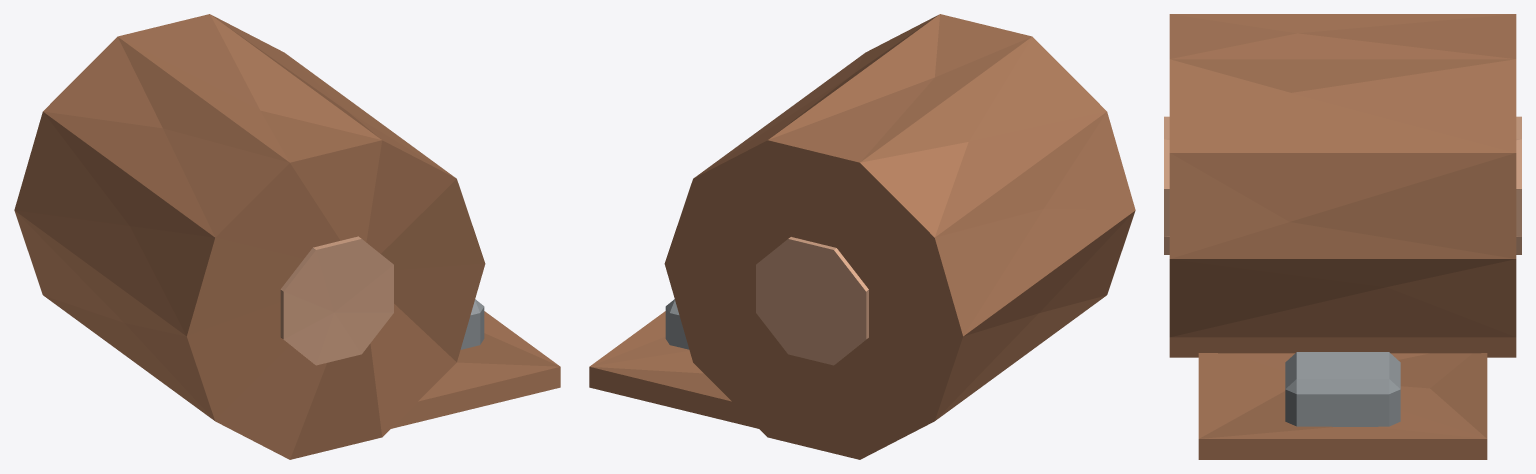
File: bandage_elastichnyy_idle.glb
3 renders of one model, left to right at view 1: azimuth 30°, elevation 25°; view 2: azimuth 150°, elevation 25°; view 3: azimuth 270°, elevation 25°, orthographic.
Parts seen in each view (by area): view 1: bandage_elastichnyy_idle; view 2: bandage_elastichnyy_idle; view 3: bandage_elastichnyy_idle.
Boxes of the visible parts, x1,y1,x2,y2 form: bandage_elastichnyy_idle: (14,14,560,459); bandage_elastichnyy_idle: (589,14,1135,459); bandage_elastichnyy_idle: (1164,14,1521,459).
Bounding box in the file's own units: 0.078 × 0.0585 × 0.062.
Materials: 1 (1 with a texture image).
